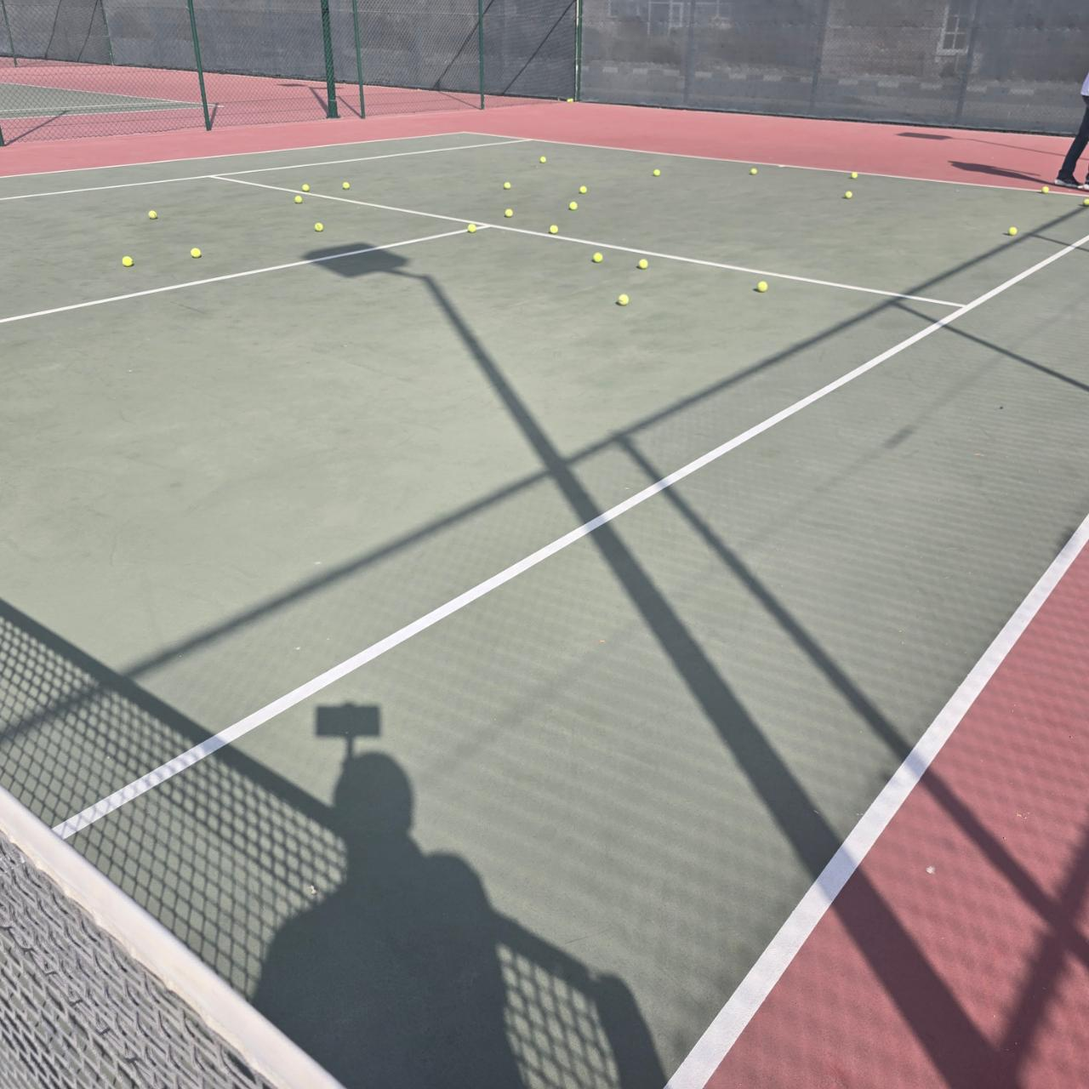tennis-ball: (754, 279, 767, 293), (617, 294, 630, 305), (122, 255, 133, 267), (190, 247, 201, 258), (638, 258, 648, 269), (593, 252, 603, 263), (467, 223, 477, 233), (549, 224, 559, 234), (1008, 226, 1018, 236), (148, 209, 157, 220), (314, 222, 323, 232), (505, 208, 514, 218), (294, 195, 303, 204), (569, 201, 578, 210), (1041, 185, 1050, 194), (342, 181, 350, 190), (503, 182, 512, 190), (579, 185, 587, 194), (845, 190, 853, 199), (1082, 197, 1089, 207), (302, 184, 310, 192), (653, 169, 661, 177), (540, 155, 547, 164), (851, 171, 858, 179), (751, 168, 758, 175), (566, 98, 574, 103)
